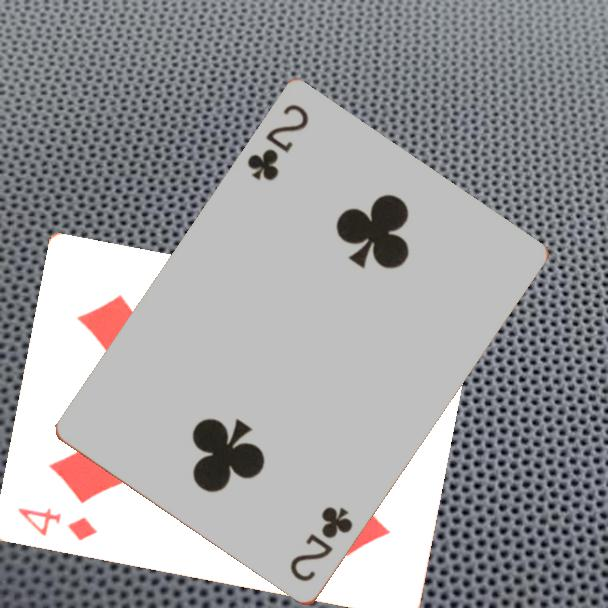c02: (286, 503, 356, 586), (243, 101, 312, 185)
d04: (14, 504, 101, 543)
